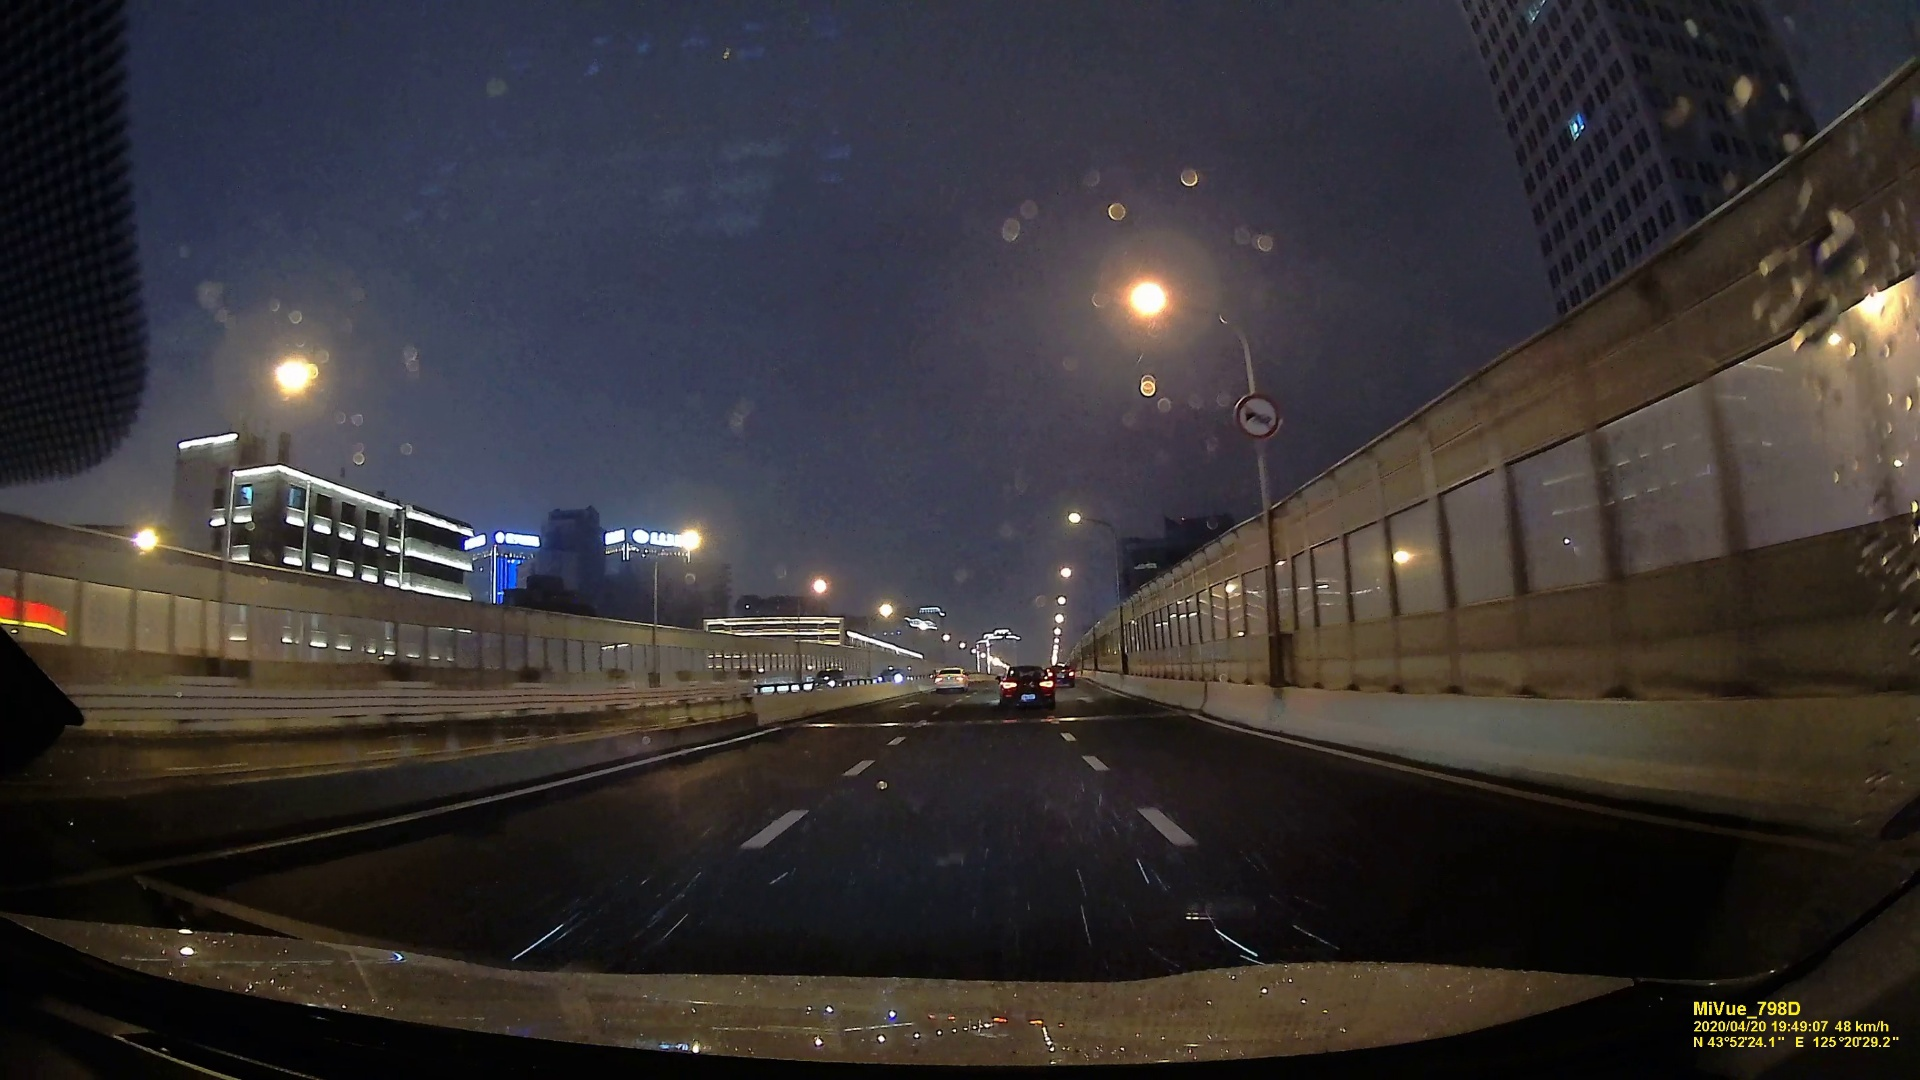traffic_sign: (1234, 394, 1275, 438)
vehicle: (1000, 665, 1055, 708), (932, 665, 971, 694), (1051, 662, 1077, 687), (876, 665, 907, 684)
